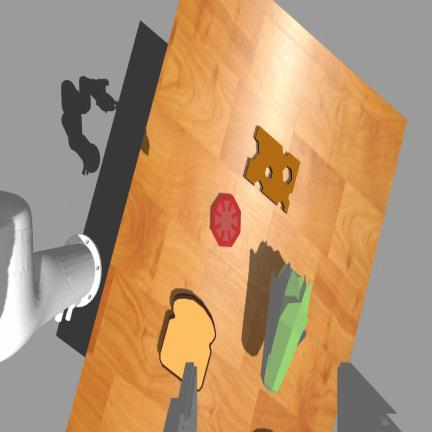cheese: (245, 126, 299, 212)
lettuce: (261, 263, 310, 392)
sliced_bread: (160, 296, 215, 389)
sliced_tomato: (212, 195, 240, 246)
